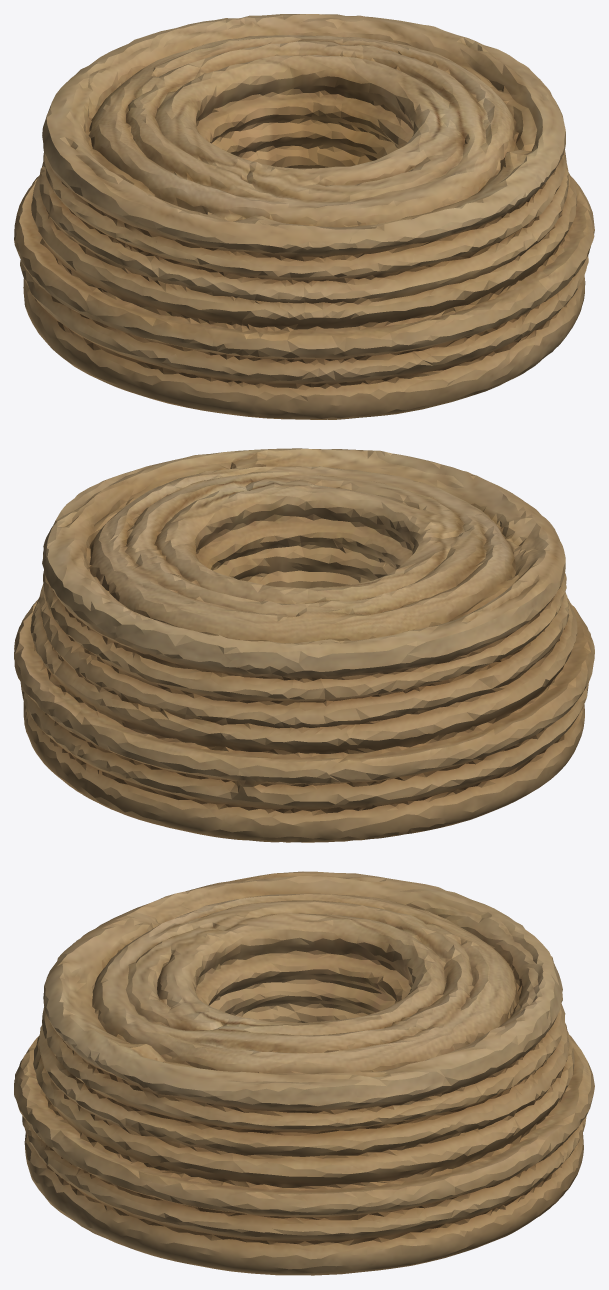
3 views of the same model, one above another, from view 1: azimuth 30°, elevation 25°; view 2: azimuth 150°, elevation 25°; view 3: azimuth 270°, elevation 25° (orthographic).
Visible parts, largest first — view 1: ThreadRope; view 2: ThreadRope; view 3: ThreadRope.
Boxes of the visible parts, <box> form: ThreadRope: <box>14,14,594,419</box>; ThreadRope: <box>14,448,594,842</box>; ThreadRope: <box>14,871,594,1275</box>.
Size of the model in its own units: 1.89 by 0.7357 by 1.89.
1 material, 1 textured.
